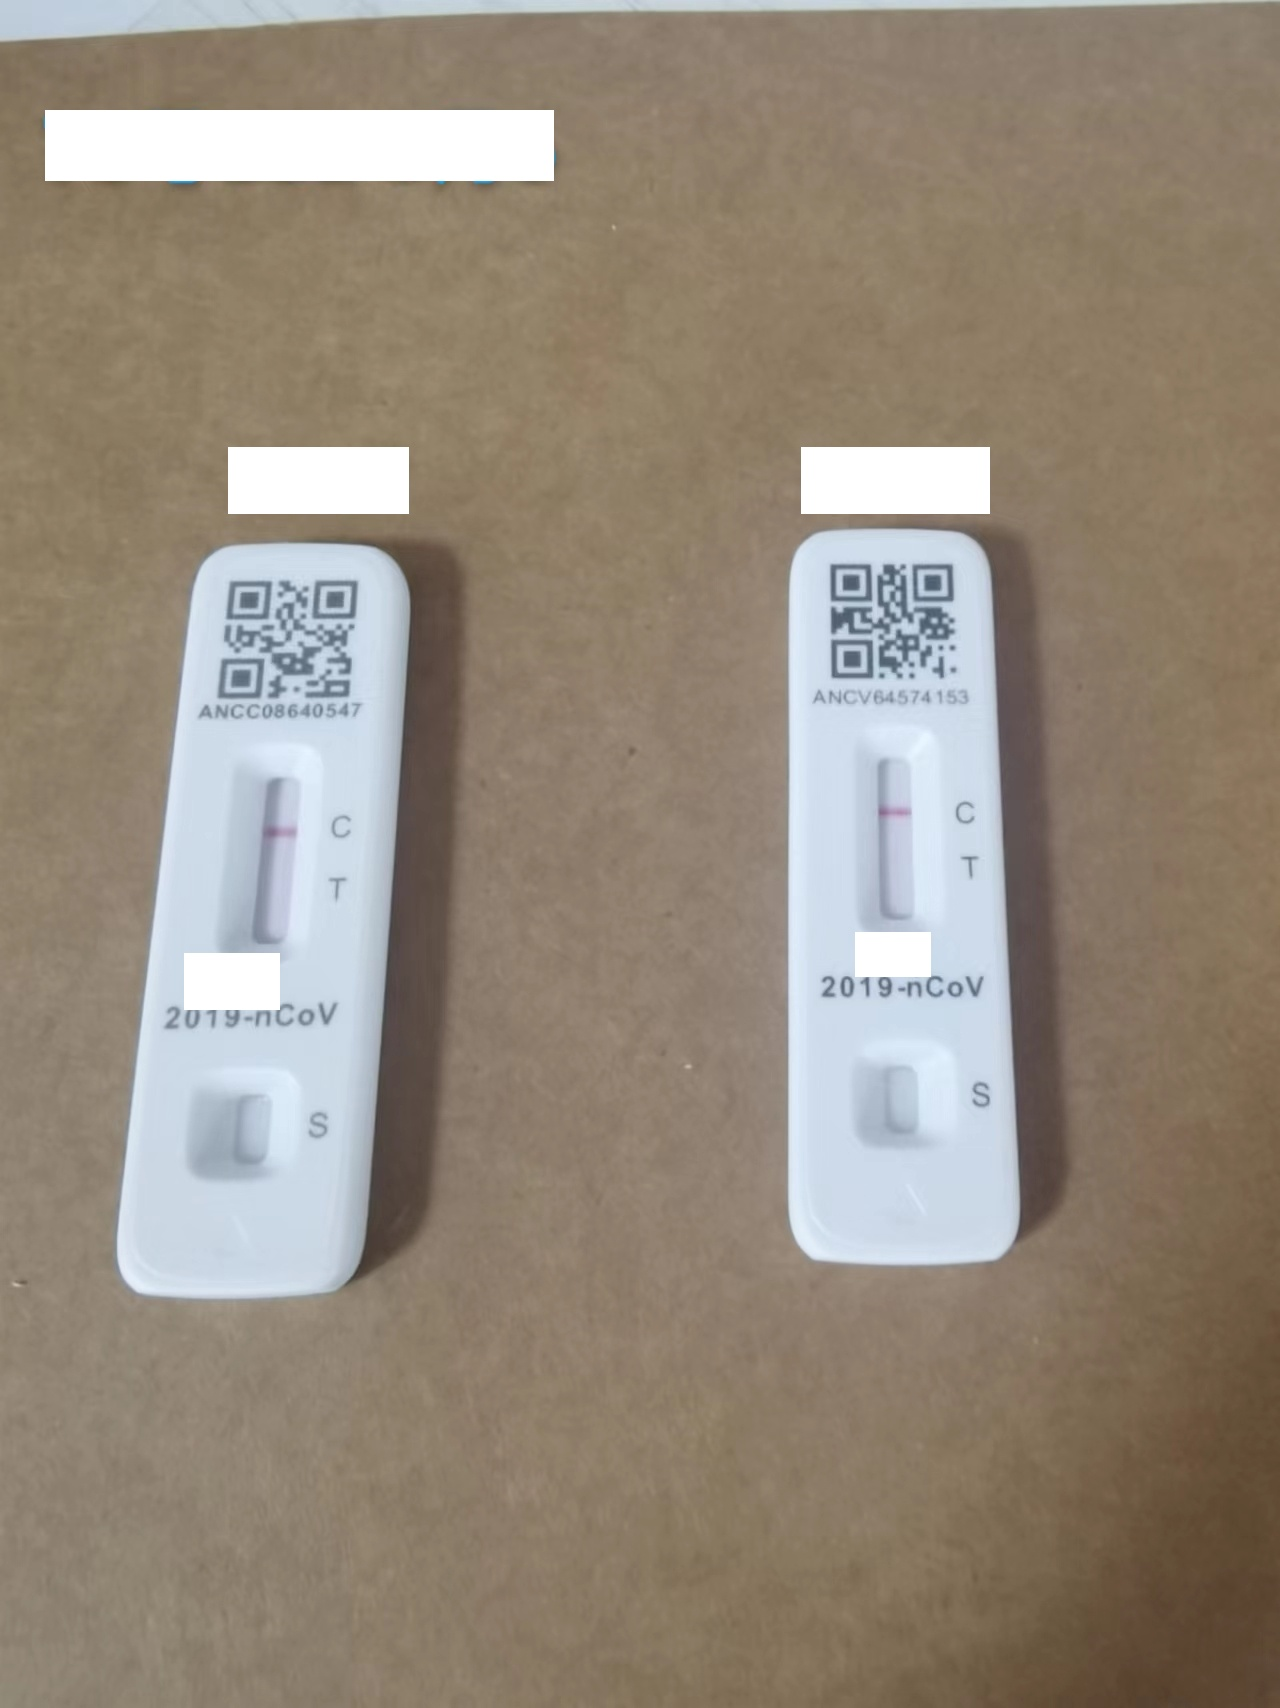negative: (852, 732, 941, 927), (229, 754, 312, 952)
